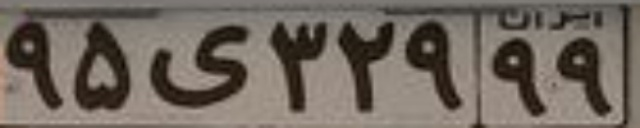2: (336, 19, 397, 114)
3: (271, 21, 327, 113)
5: (73, 20, 133, 110)
9: (404, 19, 463, 114), (6, 21, 62, 109), (489, 36, 546, 116), (557, 36, 611, 116)
mim: (144, 24, 251, 108)
